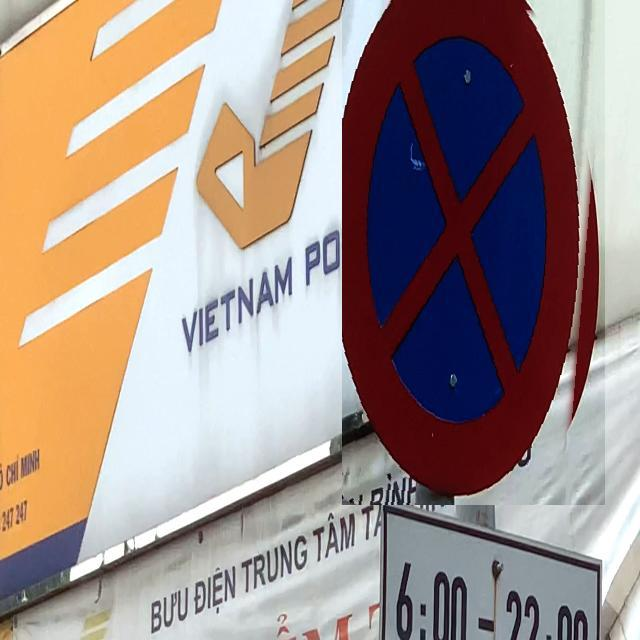P-130: (342, 0, 605, 505)
